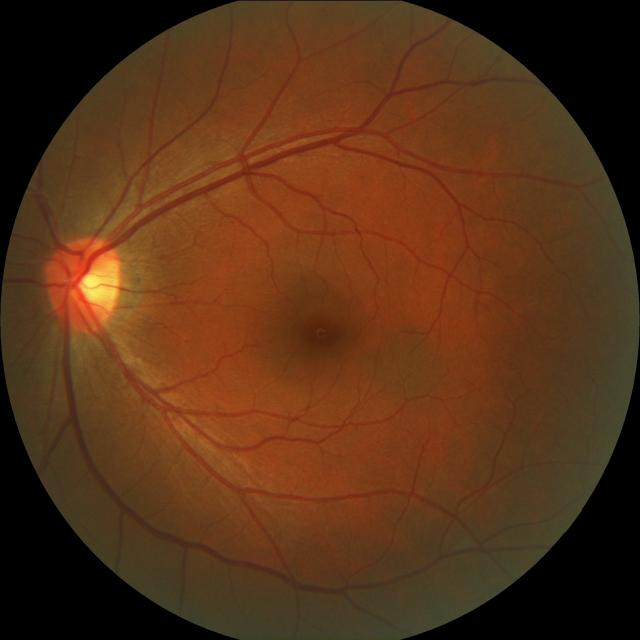OC: (64, 258, 109, 306)
OD: (44, 235, 122, 326)
